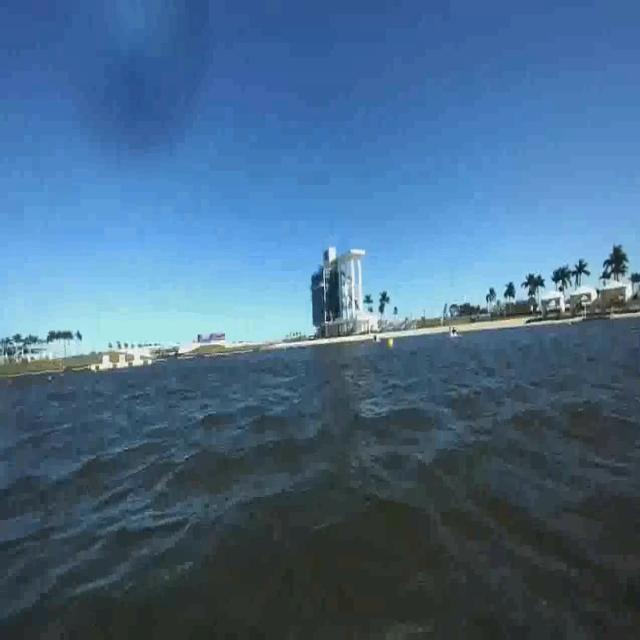yellow-buoy: (385, 338, 392, 352)
